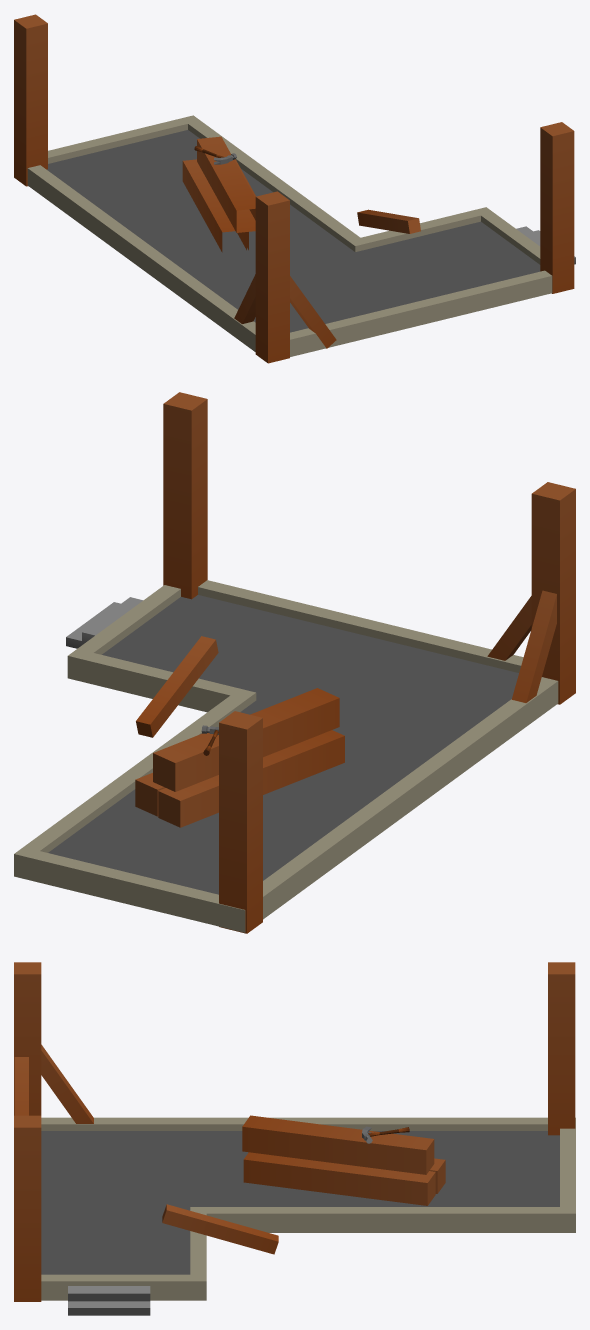
File: jeweler_d_01.fbx
3 views of the same model, one above another, from view 1: azimuth 30°, elevation 25°; view 2: azimuth 150°, elevation 25°; view 3: azimuth 270°, elevation 25° (orthographic). The views are drawn at different scales.
Visible parts, largest first — view 1: Box025.076; view 2: Box025.076; view 3: Box025.076.
Boxes of the visible parts, x1,y1,x2,y2 form: Box025.076: (14, 14, 575, 363); Box025.076: (14, 392, 575, 933); Box025.076: (14, 962, 575, 1315).
Size of the model in its own units: 7.04 by 3.19 by 9.33.
